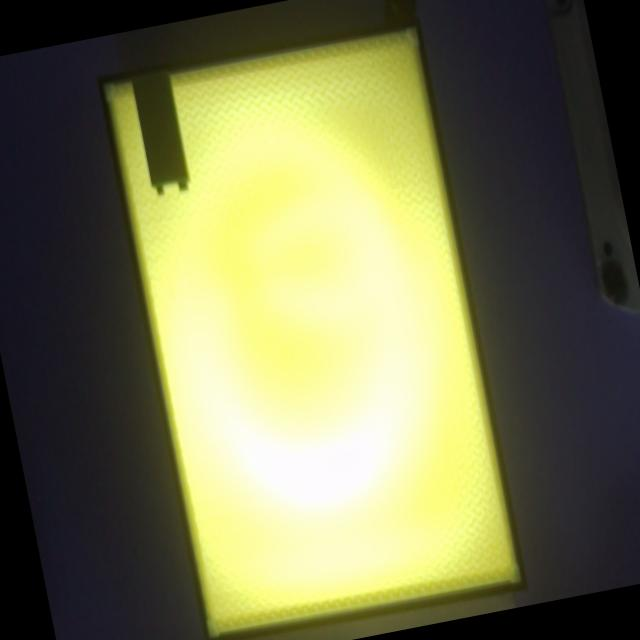bateria: (130, 68, 190, 193)
mesa: (97, 16, 529, 640)
